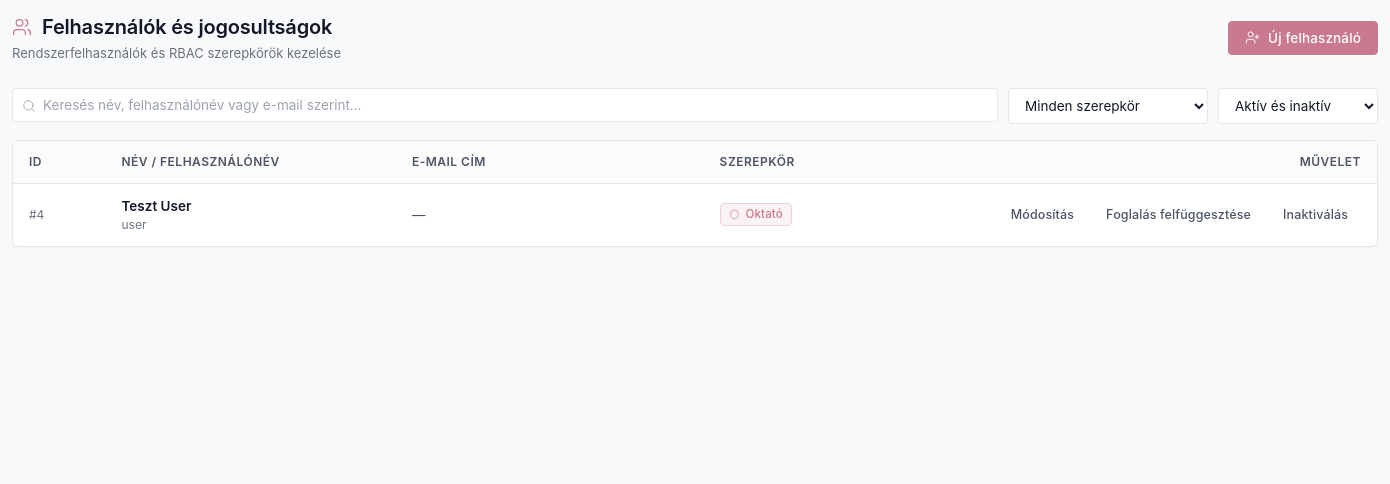
Test: admin administration pages › validates and saves a user password through the existing user update endpoint
The image size is (1390, 484).
Click the button "Módosítás" at (1042, 215), box [998,201,1087,228]
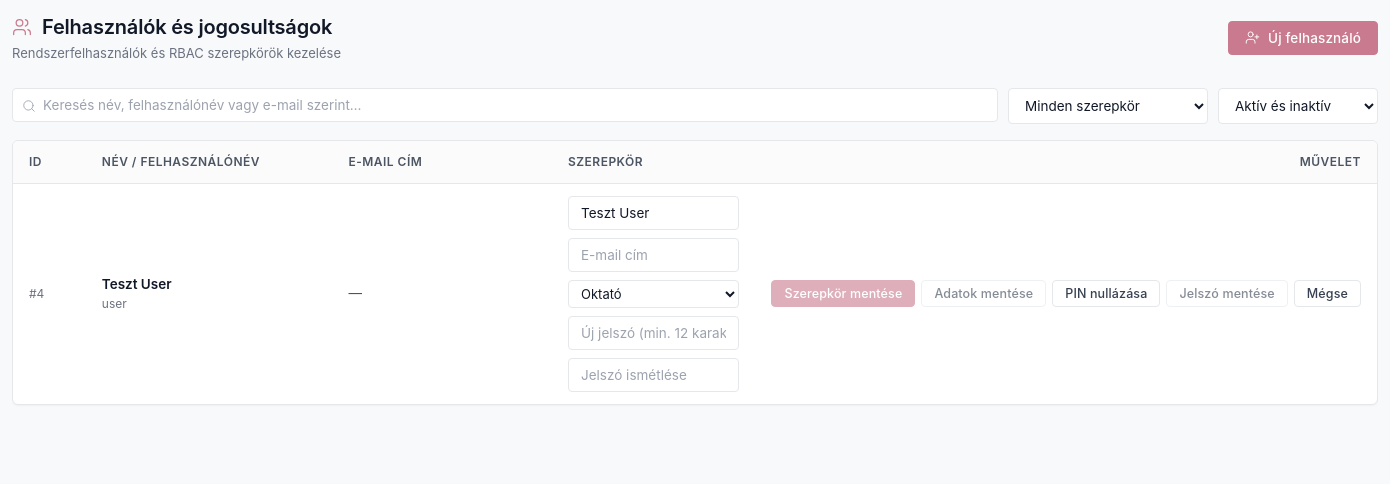
Type "short" into the password field named "Teszt User új jelszó" at (654, 332), box [568,316,739,350]
Type "short" into the password field named "Teszt User új jelszó megerősítése" at (654, 374), box [568,358,739,392]
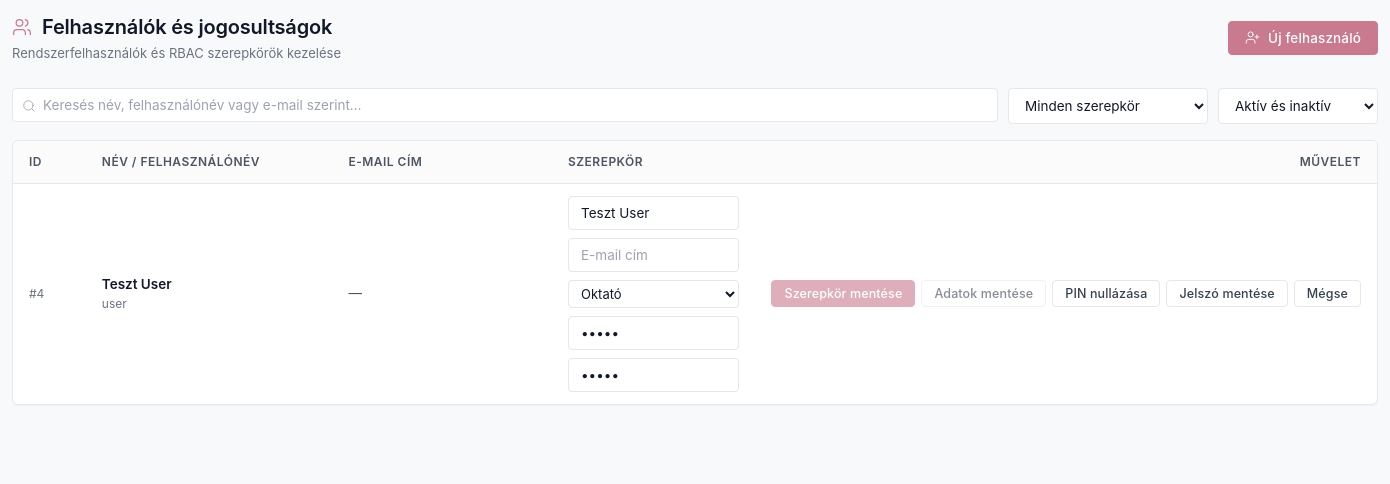
Click the button "Jelszó mentése" at (1227, 294), box [1166,280,1288,307]
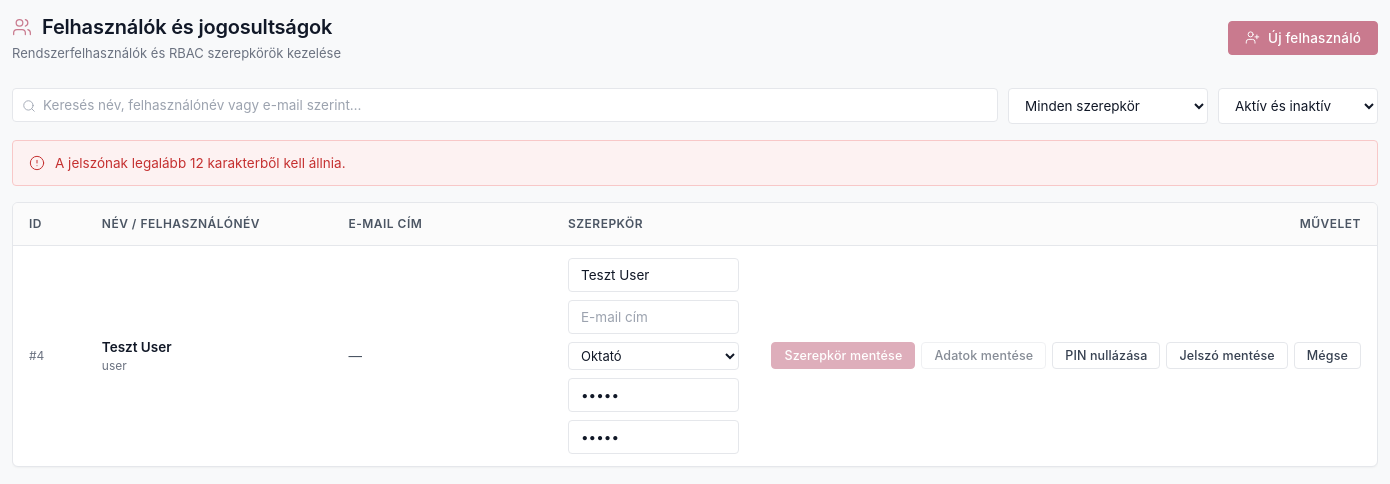
Check: the text "A jelszónak legalább 12 karakterből kell állnia." is shown, box [55,152,346,173]
Type "BiztonsagosJelszo1!" into the password field named "Teszt User új jelszó" at (654, 395), box [568,378,739,412]
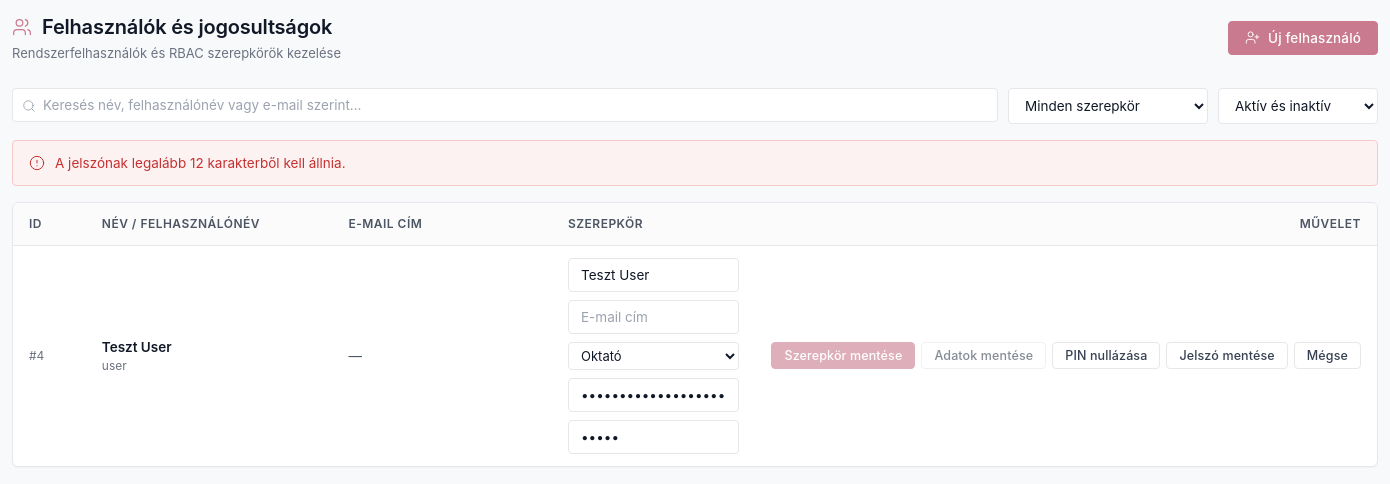
Type "BiztonsagosJelszo1!" into the password field named "Teszt User új jelszó megerősítése" at (654, 437), box [568,420,739,454]
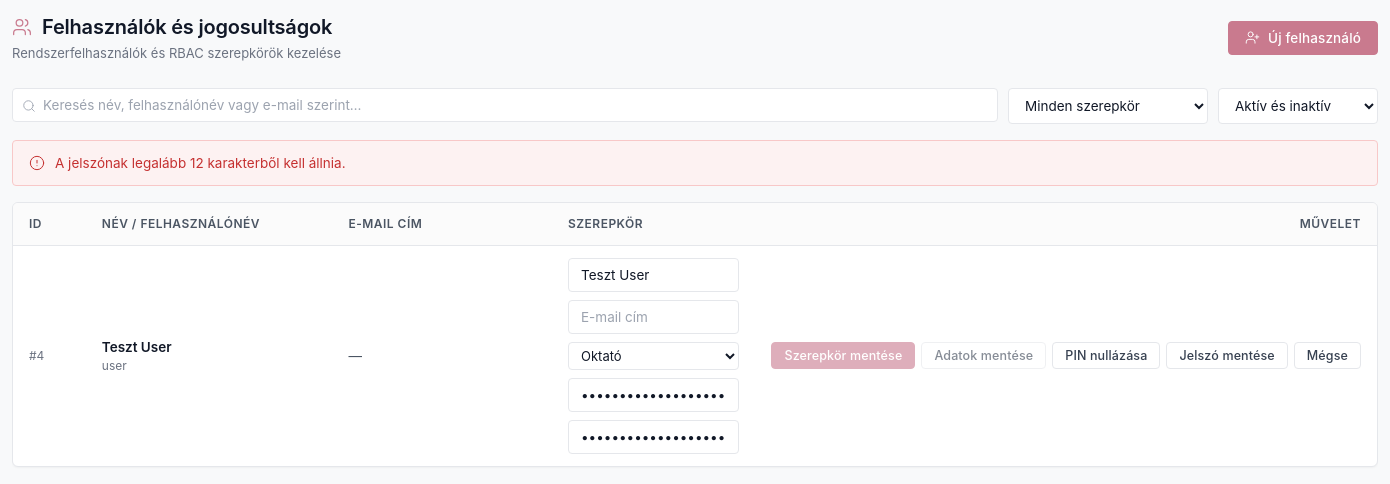
Click the button "Jelszó mentése" at (1227, 356), box [1166,342,1288,369]
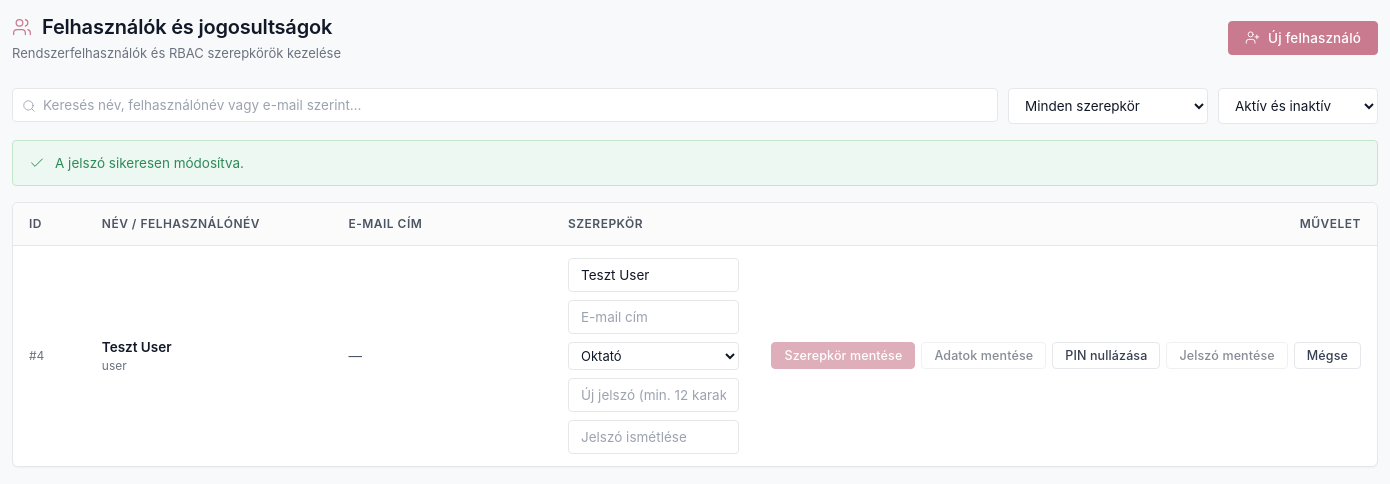
Check: the text "A jelszó sikeresen módosítva." is shown, box [55,152,244,173]
